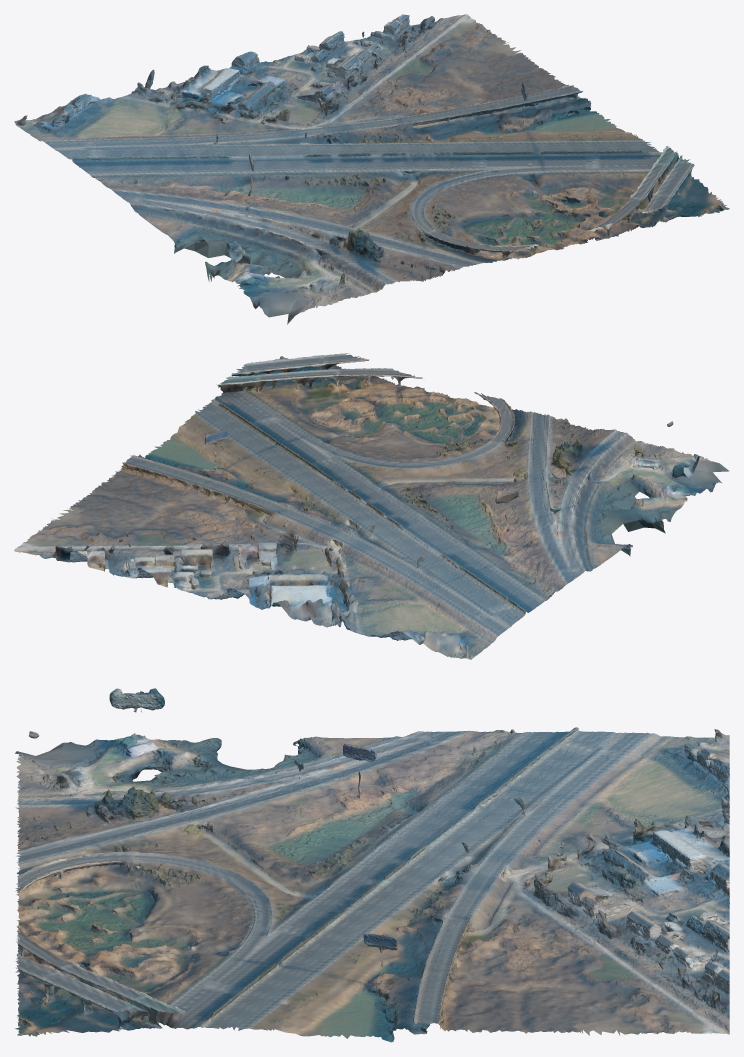
The model's file is EnvAsset_009_Tile_00.obj.
The picture shows the model from 3 angles, top to bottom: view 1: azimuth 30°, elevation 25°; view 2: azimuth 150°, elevation 25°; view 3: azimuth 270°, elevation 25°; orthographic projection. The views are drawn at different scales.
Size of the model in its own units: 348 by 47.61 by 351.
Materials: 1 (1 with a texture image).
